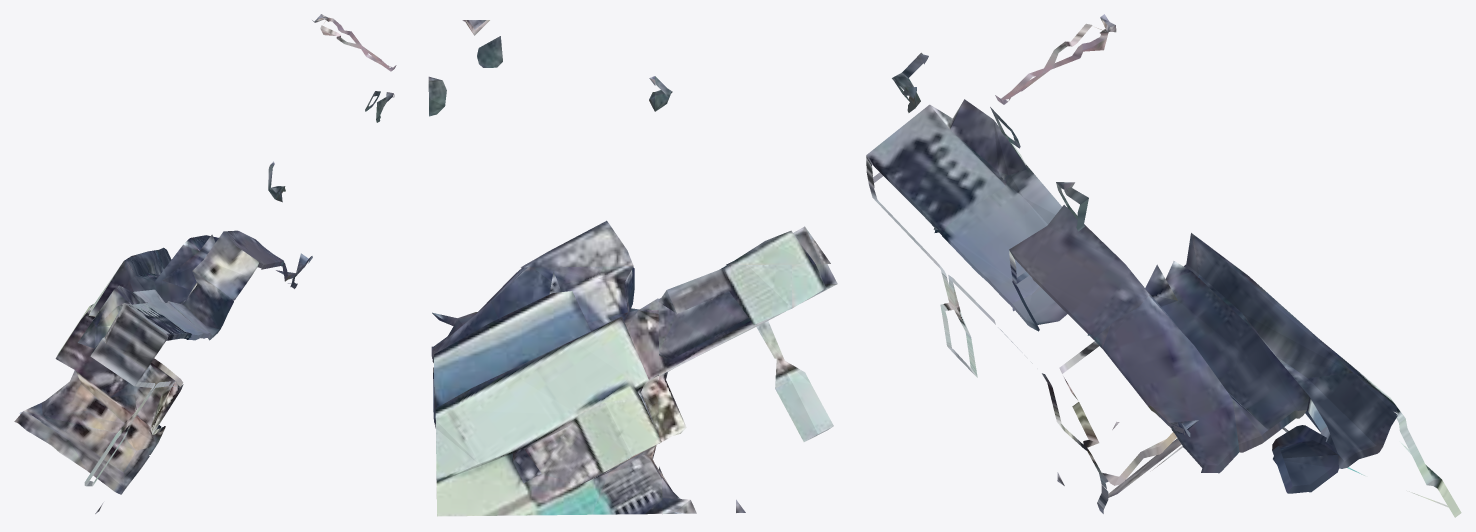
The picture shows the model from 3 angles, left to right: view 1: azimuth 30°, elevation 25°; view 2: azimuth 150°, elevation 25°; view 3: azimuth 270°, elevation 25°; orthographic projection. The views are drawn at different scales.
Bounding box in the file's own units: 32.29 × 37.94 × 32.01.
Materials: 1 (1 with a texture image).
